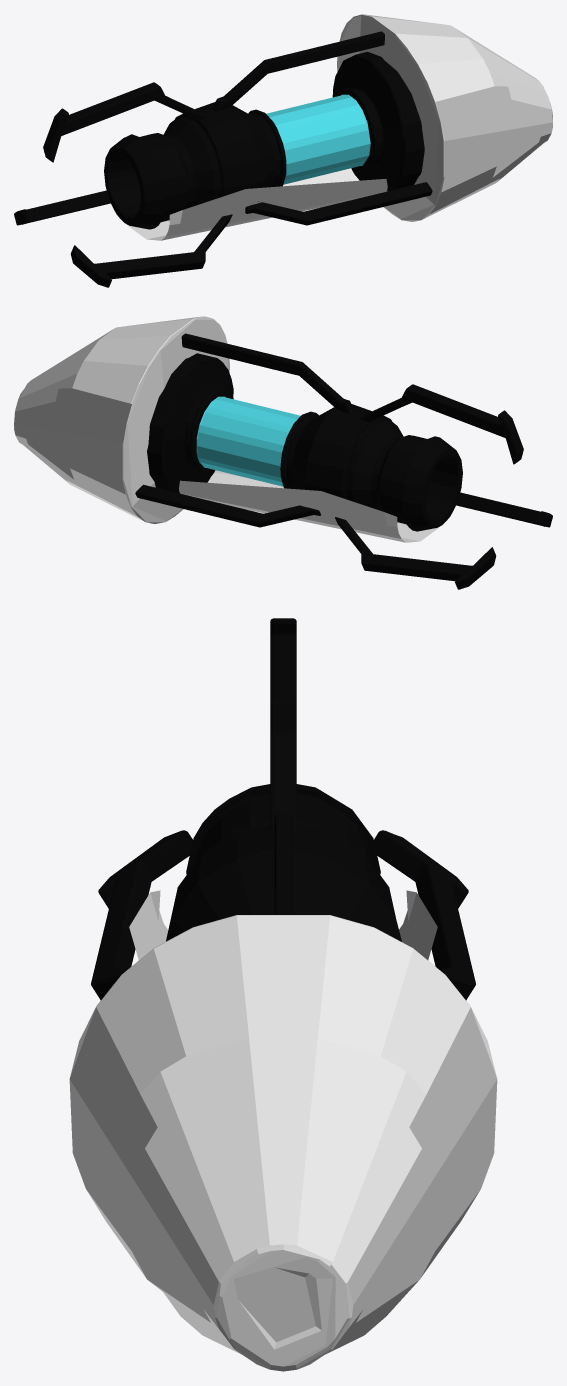
Rendered from gun.fbx.
3 renders of one model, top to bottom at view 1: azimuth 30°, elevation 25°; view 2: azimuth 150°, elevation 25°; view 3: azimuth 270°, elevation 25°, orthographic. The views are drawn at different scales.
Visible parts, largest first — view 1: white; view 2: white; view 3: white.
Part boxes in pixels (x1,y1,x2,y2): white: [14, 14, 552, 287]; white: [14, 316, 552, 589]; white: [69, 618, 497, 1371].
Bounding box in the file's own units: 364 × 135 × 137.
